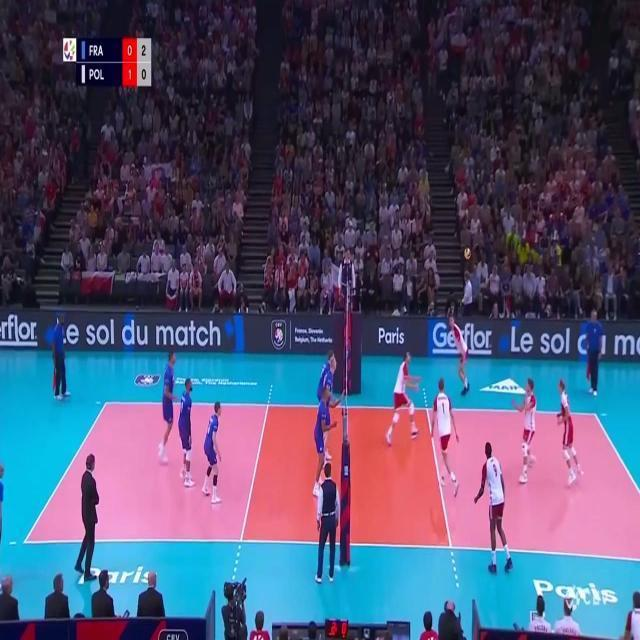volleyball: (463, 248, 471, 260)
